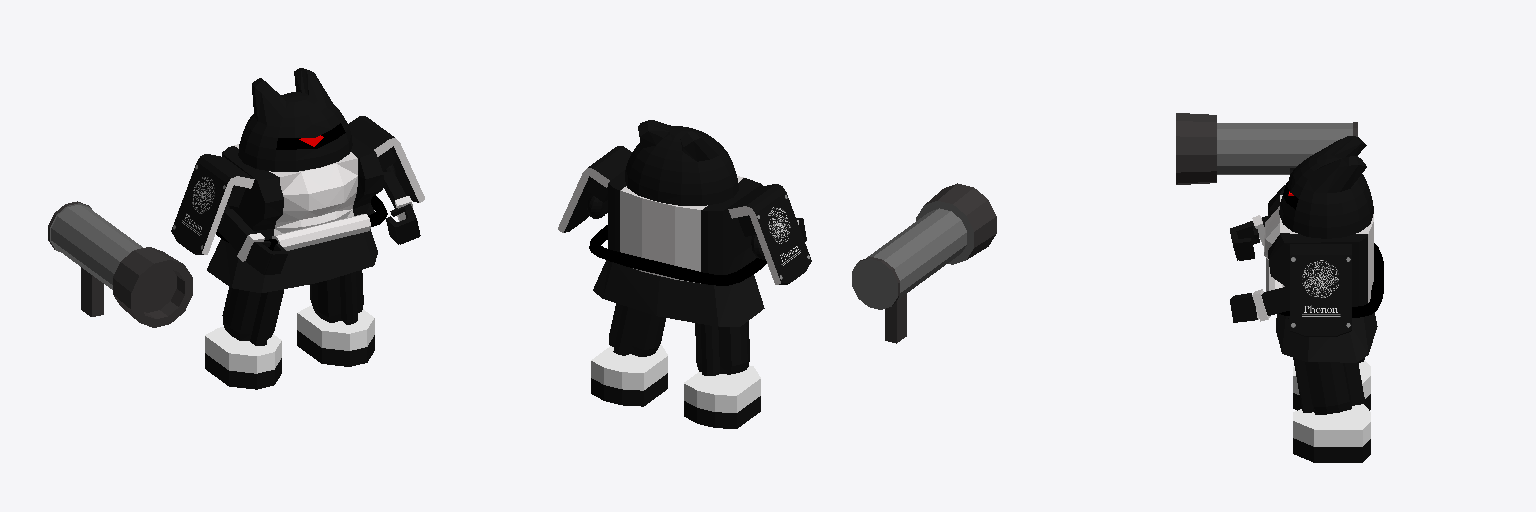
3 renders of one model, left to right at view 1: azimuth 30°, elevation 25°; view 2: azimuth 150°, elevation 25°; view 3: azimuth 270°, elevation 25°, orthographic.
Visible parts, largest first — view 1: Cube_Cube.001; view 2: Cube_Cube.001; view 3: Cube_Cube.001.
Part boxes in pixels (x1,y1,x2,y2): Cube_Cube.001: (48,68,424,389); Cube_Cube.001: (558,120,996,428); Cube_Cube.001: (1176,113,1383,462).
Bounding box in the file's own units: 3.35 × 2.55 × 1.71.
Materials: 1 (1 with a texture image).